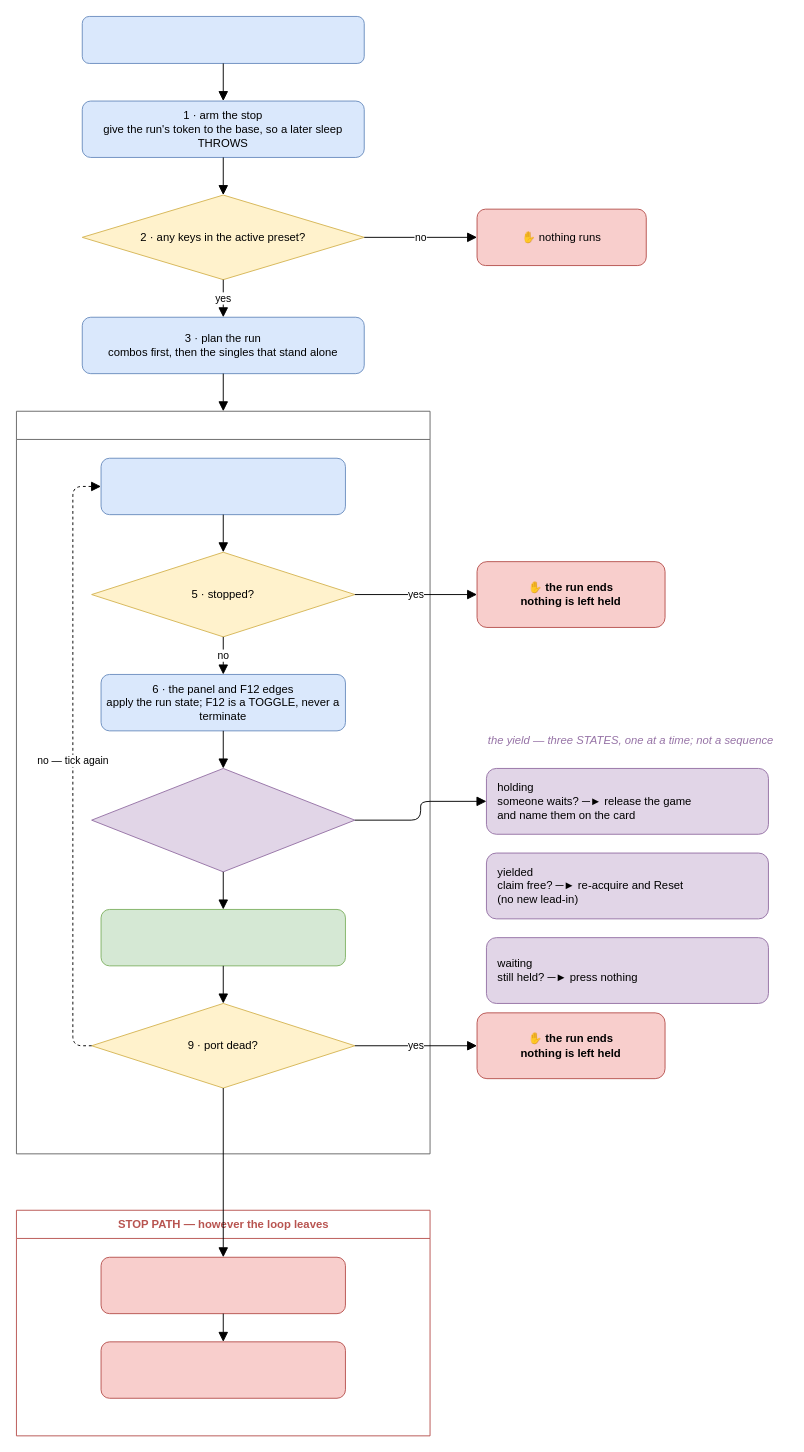
This 804x1452 diagram has some shape labels left out. Here are the shapes that lost their labels. From the top down, the box of each, then its label:
(81, 16, 364, 63): Run — handed the port, the card state, and one cancellation token
(100, 457, 345, 515): 4 · tick — sleep ~20 ms a QUIT press is seen here
(16, 410, 430, 1154): LOOP — repeats until the run is stopped
(91, 768, 355, 872): 7 · THE YIELD only when a game claim is wired
(100, 909, 345, 966): 8 · ▓ write the due key one combo step, or one preempted single
(100, 1256, 345, 1314): a Stop cancels the token ─► the loop's next sleep THROWS
(100, 1341, 345, 1398): the tool's finally runs clears "running"
